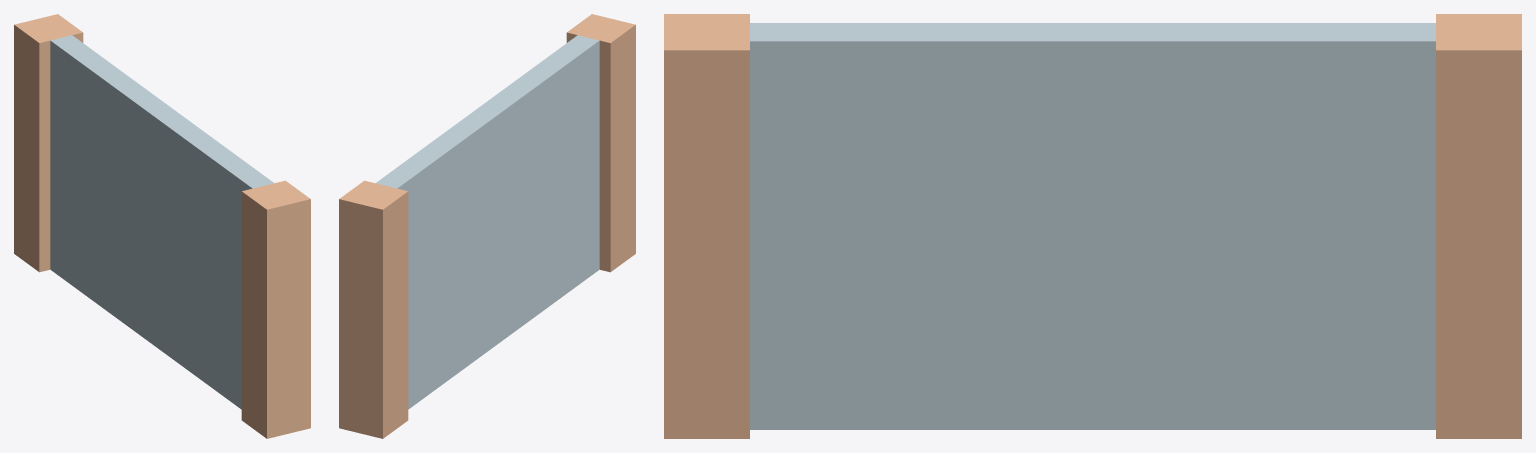
The model's file is wallHalf.glb.
The picture shows the model from 3 angles, left to right: view 1: azimuth 30°, elevation 25°; view 2: azimuth 150°, elevation 25°; view 3: azimuth 270°, elevation 25°; orthographic projection. The views are drawn at different scales.
Visible parts, largest first — view 1: wallHalf; view 2: wallHalf; view 3: wallHalf.
Part boxes in pixels (x1=…): wallHalf: x1=14, y1=14, x2=310, y2=438; wallHalf: x1=339, y1=14, x2=635, y2=438; wallHalf: x1=664, y1=14, x2=1521, y2=438.
Size of the model in its own units: 0.1 by 0.5 by 1.
